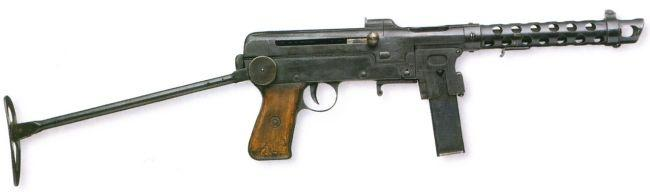blood: (4, 5, 644, 190)
